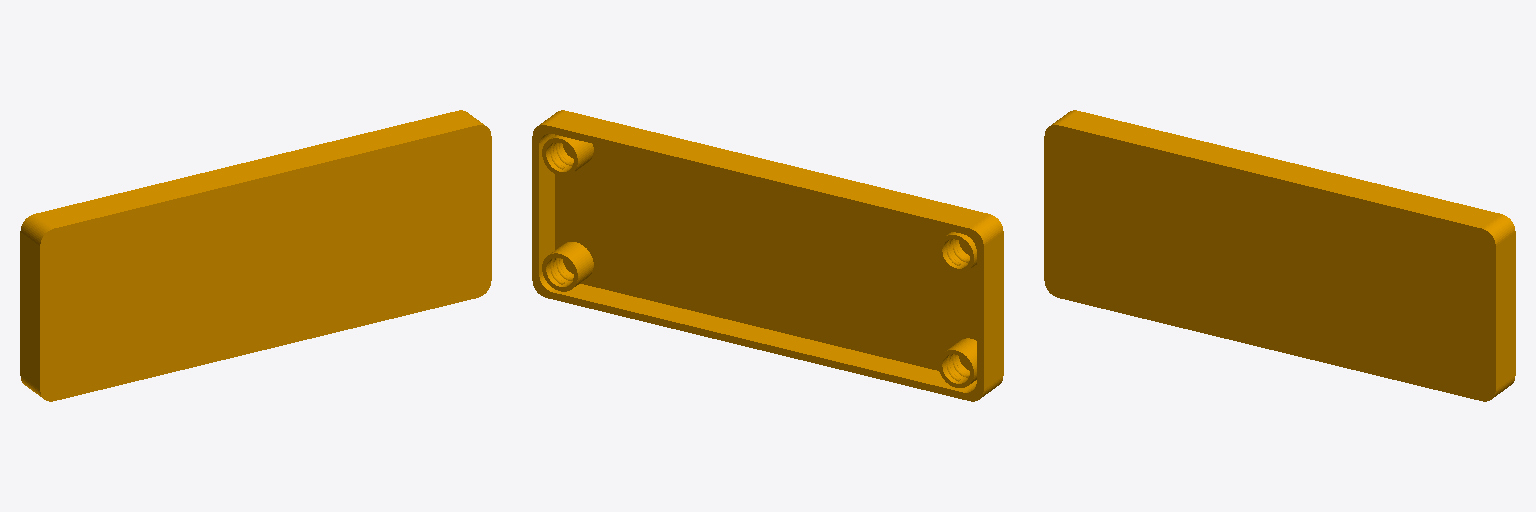
The robot description file, URDF, robot "desk_top_rectangle":
<?xml version="1.0"?>
<robot name="desk_top_rectangle">
    <link name="desk_top_rectangle">
        <visual>
            <geometry>
                <mesh filename="../../mesh/desk/RectangleDesk/desk_top.obj" scale="1 1 1"/>
            </geometry>
        </visual>
        <collision>
            <geometry>
                <mesh filename="../../mesh/desk/RectangleDesk/desk_top.obj" scale="1 1 1"/>
            </geometry>
            <sdf resolution="512"/>
        </collision>
    </link>
</robot>

--- What the picture shows (computed from the rendered views, not written in the file) ---
3 views of the same robot in one strip: view 1: azimuth 30°, elevation 25°; view 2: azimuth 150°, elevation 25°; view 3: azimuth 330°, elevation 25° (orthographic).
Model desk_top_rectangle with 1 links and 0 joints (none), rooted at desk_top_rectangle, posed all joints at 0.
Visible links, largest first — view 1: desk_top_rectangle; view 2: desk_top_rectangle; view 3: desk_top_rectangle.
Boxes of the visible links, box(x1,y1,x2,y2) form: desk_top_rectangle: box(20, 110, 491, 401); desk_top_rectangle: box(532, 110, 1003, 401); desk_top_rectangle: box(1044, 110, 1515, 401).
Bounding box of the posed robot: 0.41 × 0.0312 × 0.15 m (x, y, z).
1 mesh visuals loaded from 1 distinct referenced files (1 OBJ).